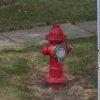Hydrant: (32, 19, 78, 95)
